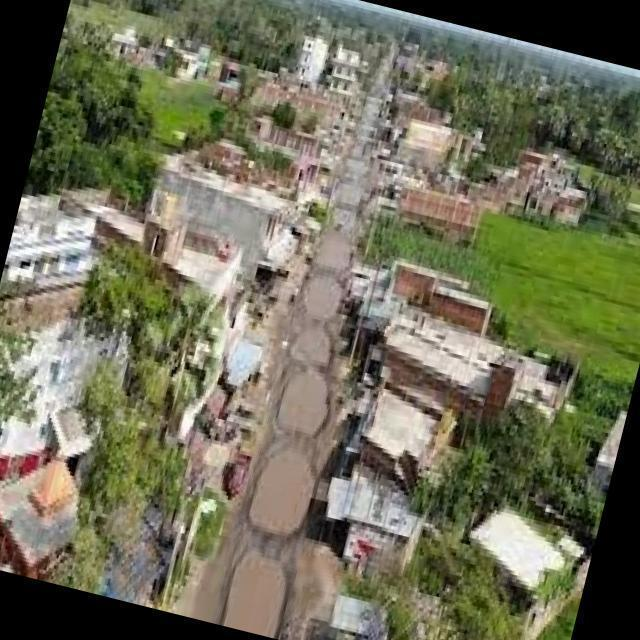pothole: (249, 444, 323, 542), (226, 549, 291, 638), (268, 366, 339, 433), (290, 326, 339, 368), (315, 232, 355, 279), (304, 273, 343, 321)
